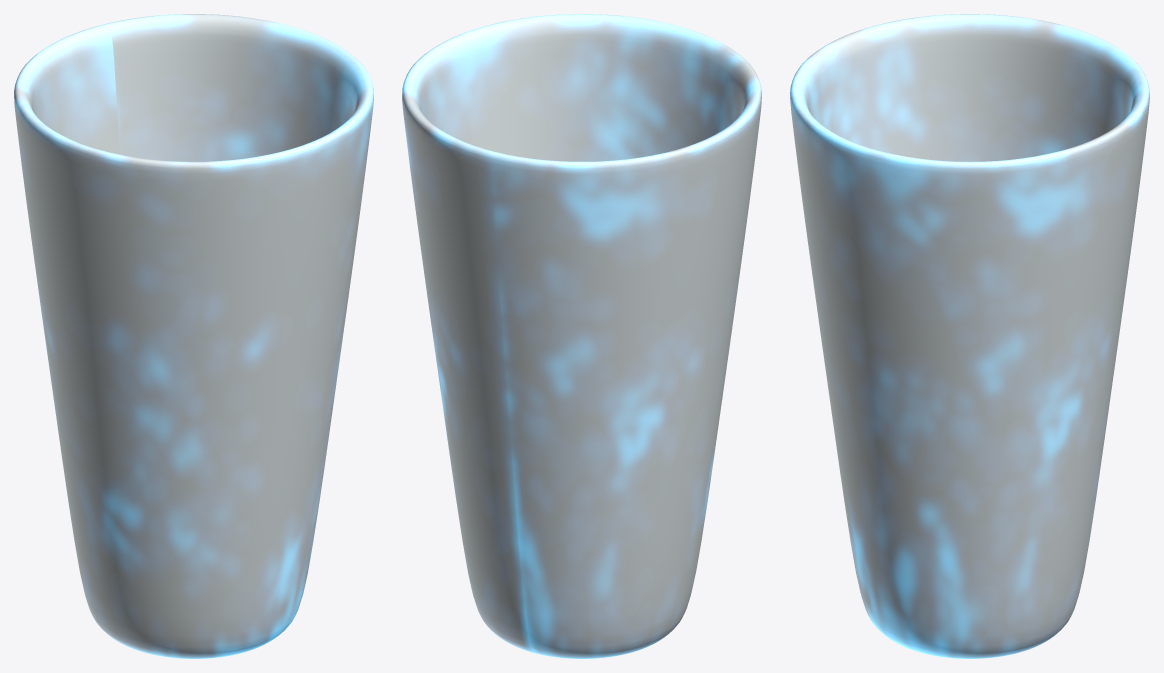
Rendered from glass-not-directly-to-unity.fbx.
3 views of the same model, side by side, from view 1: azimuth 30°, elevation 25°; view 2: azimuth 150°, elevation 25°; view 3: azimuth 270°, elevation 25° (orthographic).
Visible parts, largest first — view 1: glass; view 2: glass; view 3: glass.
Part boxes in pixels (x1,y1,x2,y2): glass: (14, 14, 373, 658); glass: (402, 14, 761, 658); glass: (790, 14, 1149, 658).
Size of the model in its own units: 0.079 by 0.1294 by 0.079.
1 material, 1 textured.
